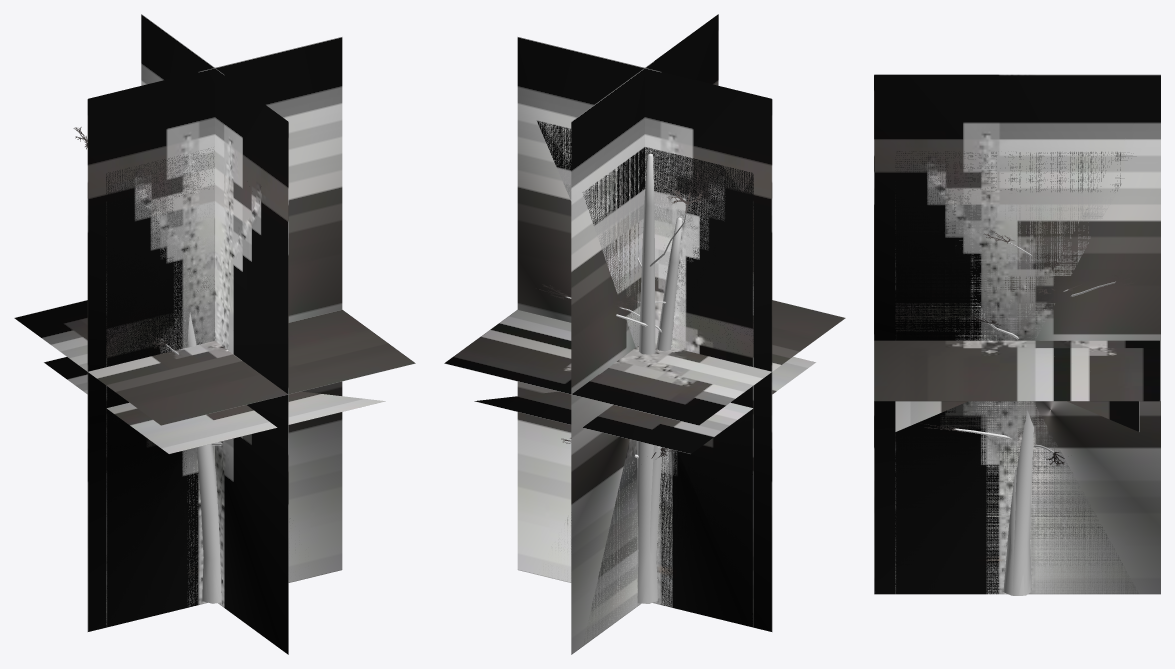
Rendered from tree-deadbirch.glb.
The picture shows the model from 3 angles, left to right: view 1: azimuth 30°, elevation 25°; view 2: azimuth 150°, elevation 25°; view 3: azimuth 270°, elevation 25°; orthographic projection. The views are drawn at different scales.
Parts seen in each view (by area): view 1: impostor-0, impostor-1, lod0-wood-1; view 2: impostor-0, impostor-1, lod0-wood-0, lod0-wood-1; view 3: impostor-0, impostor-1, lod0-wood-0, lod0-wood-1, lod0-leaves-0.
Part boxes in pixels (left/top/right/bottom): impostor-0: left=14, top=14, right=415, bottom=654; impostor-1: left=44, top=148, right=385, bottom=627; lod0-wood-1: left=165, top=312, right=221, bottom=603; impostor-0: left=444, top=14, right=845, bottom=654; impostor-1: left=474, top=120, right=815, bottom=645; lod0-wood-0: left=566, top=153, right=687, bottom=603; lod0-wood-1: left=619, top=217, right=682, bottom=603; impostor-0: left=874, top=74, right=1160, bottom=594; impostor-1: left=895, top=151, right=1139, bottom=594; lod0-wood-0: left=954, top=242, right=1115, bottom=595; lod0-wood-1: left=1003, top=289, right=1068, bottom=595; lod0-leaves-0: left=924, top=230, right=1134, bottom=432.
Size of what is drawn, in the model's own units: 7.14 by 14.28 by 7.14.
4 materials, 3 textured.
